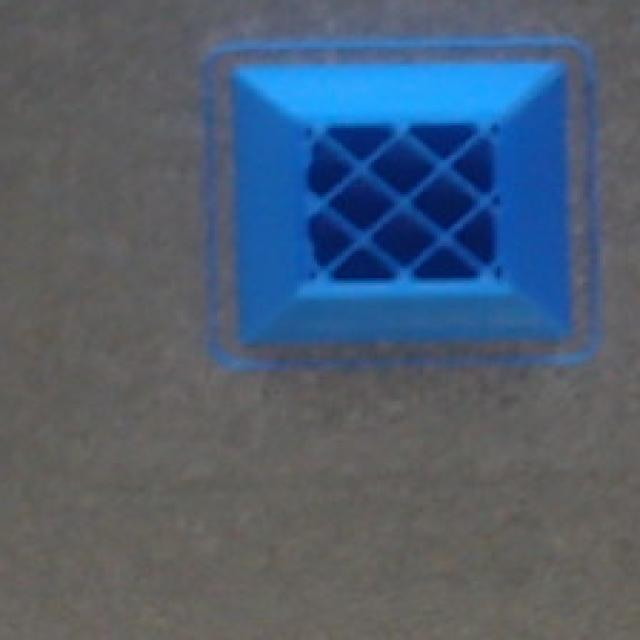noMistake: (203, 39, 597, 364)
